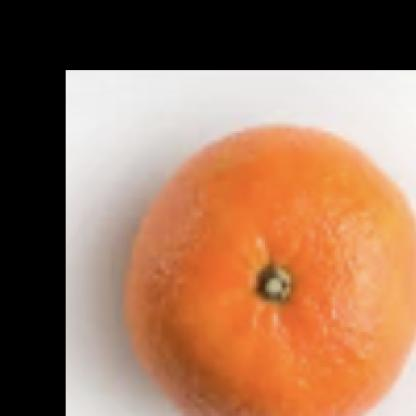rotten: (123, 115, 416, 416)
